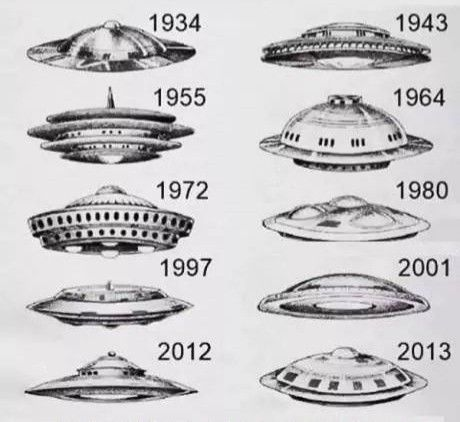ufo: (258, 85, 455, 175), (22, 84, 212, 170), (22, 180, 214, 257), (257, 256, 459, 329), (258, 340, 460, 409), (22, 259, 215, 330), (258, 179, 457, 245), (22, 340, 216, 407), (257, 9, 452, 75), (21, 10, 211, 76)
